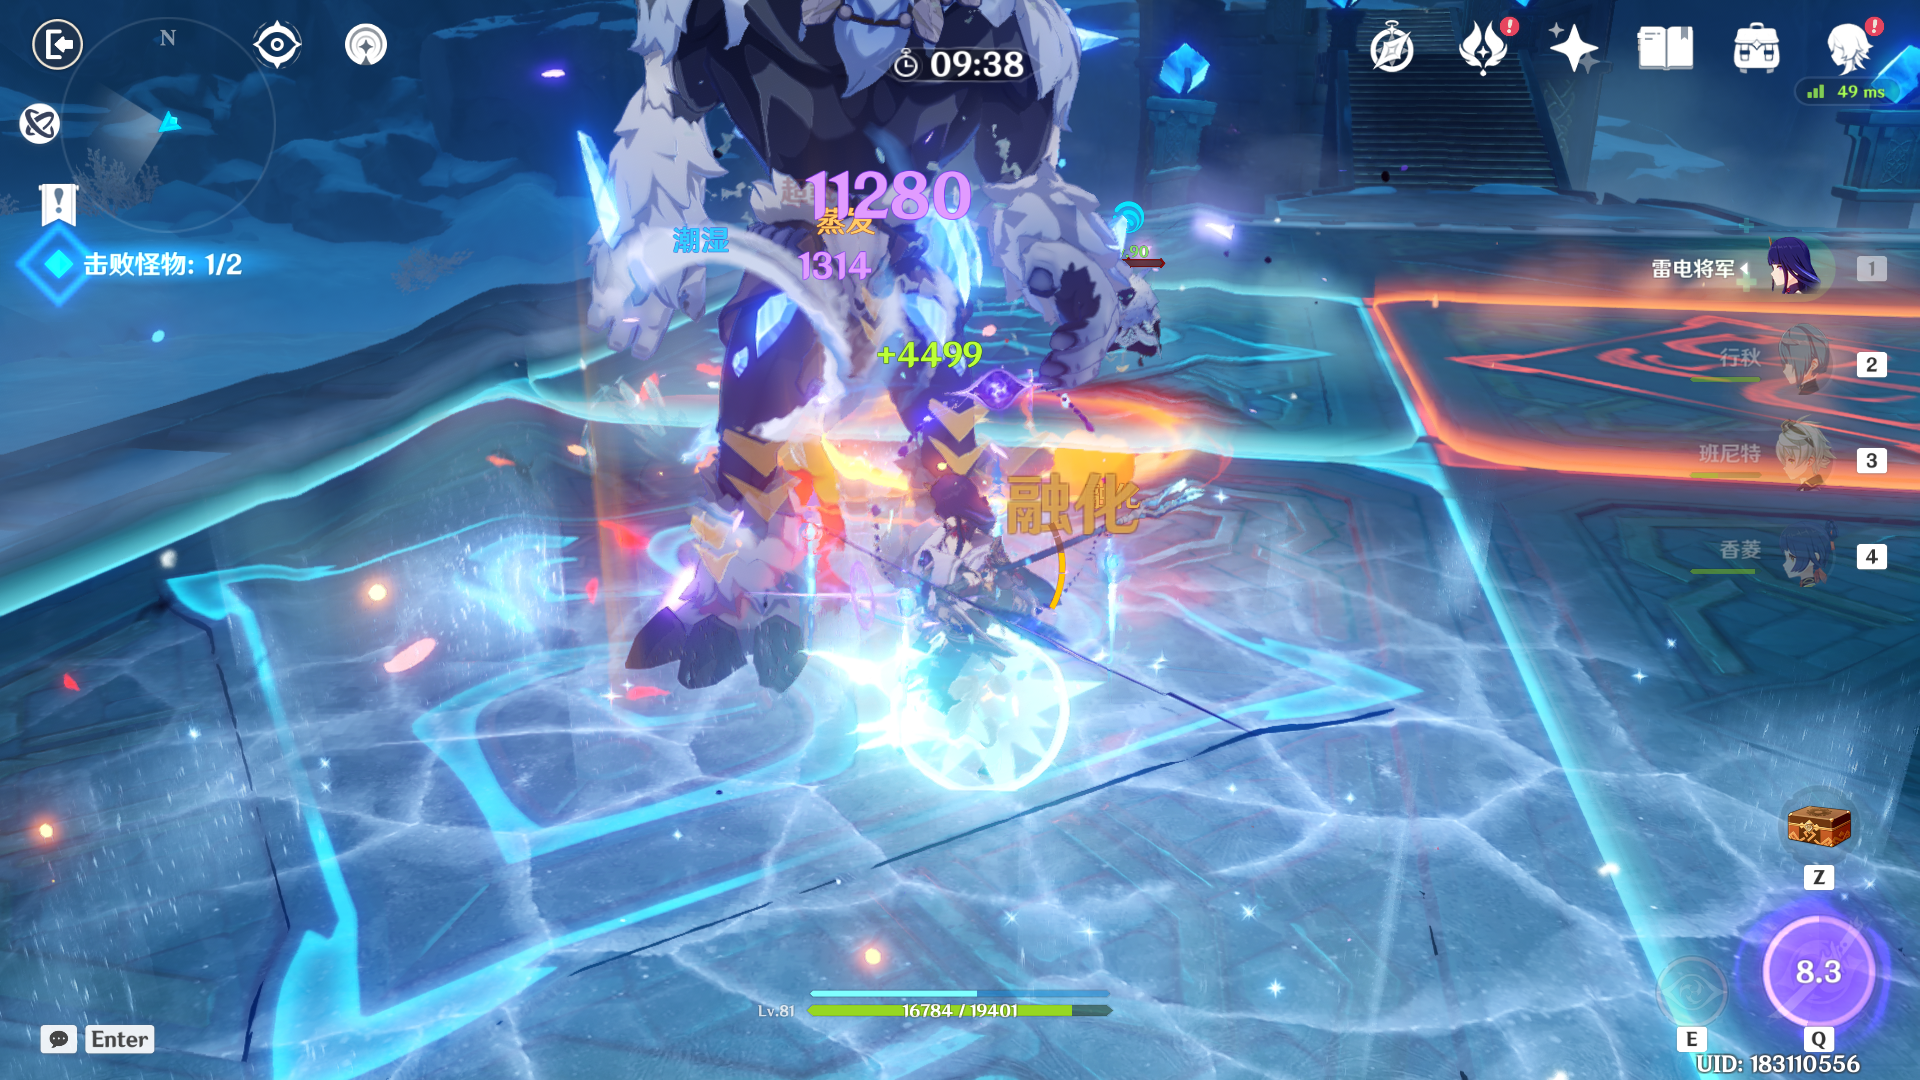bosshili: (509, 1, 1218, 798)
caster: (1065, 218, 1200, 404)
character: (837, 448, 1101, 757)
